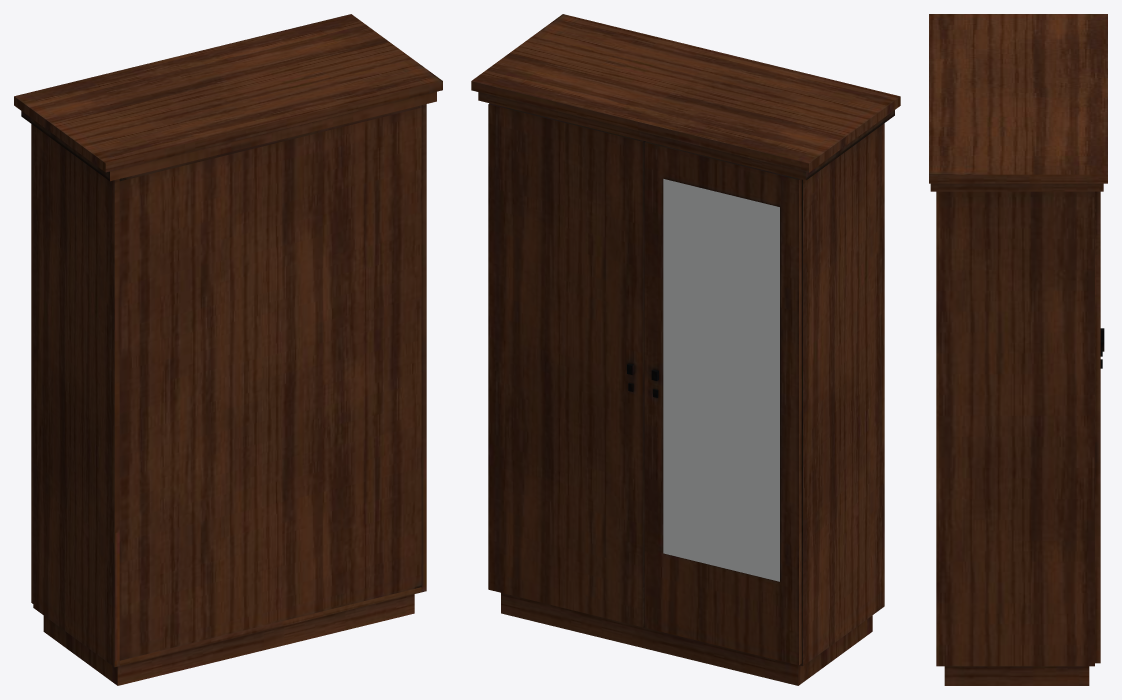
Rendered from wardrobe_mirror_web.glb.
The picture shows the model from 3 angles, left to right: view 1: azimuth 30°, elevation 25°; view 2: azimuth 150°, elevation 25°; view 3: azimuth 270°, elevation 25°; orthographic projection. The views are drawn at different scales.
Parts seen in each view (by area): view 1: WardrobeMirror_Body, Door_R_Mesh; view 2: WardrobeMirror_Body, Door_L_Mesh, Mirror_R, Door_R_Mesh; view 3: WardrobeMirror_Body, Door_L_Mesh.
Boxes of the visible parts, box(x1,y1,x2,y2) form: WardrobeMirror_Body: box(14, 14, 442, 685); Door_R_Mesh: box(31, 124, 33, 603); WardrobeMirror_Body: box(471, 14, 900, 685); Door_L_Mesh: box(488, 103, 645, 627); Mirror_R: box(663, 179, 779, 581); Door_R_Mesh: box(644, 141, 801, 665); WardrobeMirror_Body: box(929, 14, 1107, 685); Door_L_Mesh: box(1095, 191, 1104, 663).
Bounding box in the file's own units: 1.34 × 2.02 × 0.63.
Materials: 2 (1 with a texture image).
